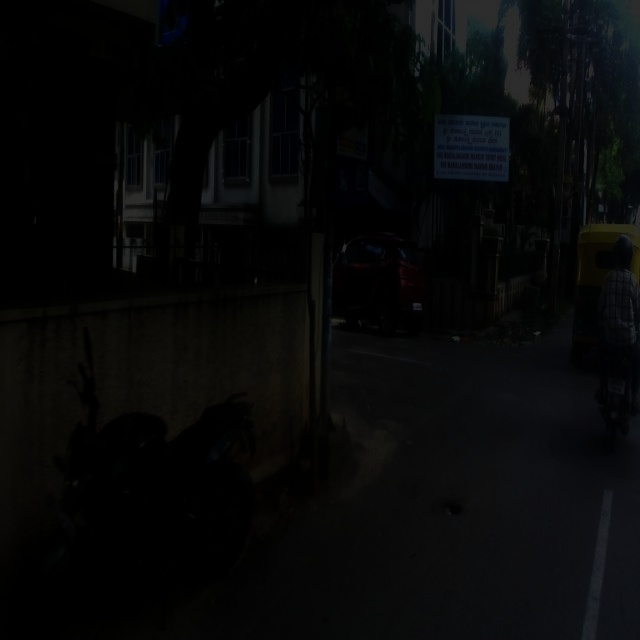Pothole: (411, 458, 496, 566)
